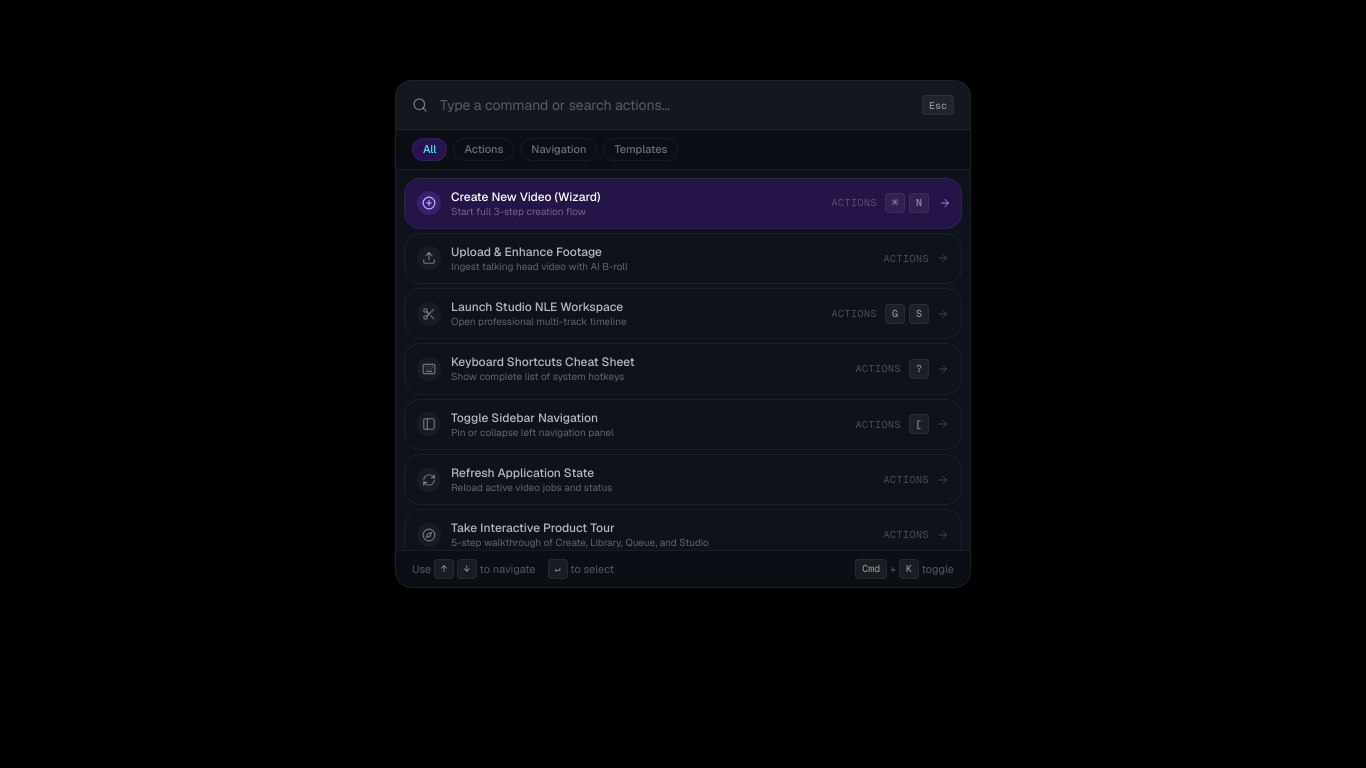
Test: Phase 7: CommandPalette Enhancements › filters commands by category pills (Actions, Navigation, Templates)
// Click Actions tab
Step 1. Click the button "Actions" → (484,149), box [453,138,514,160]
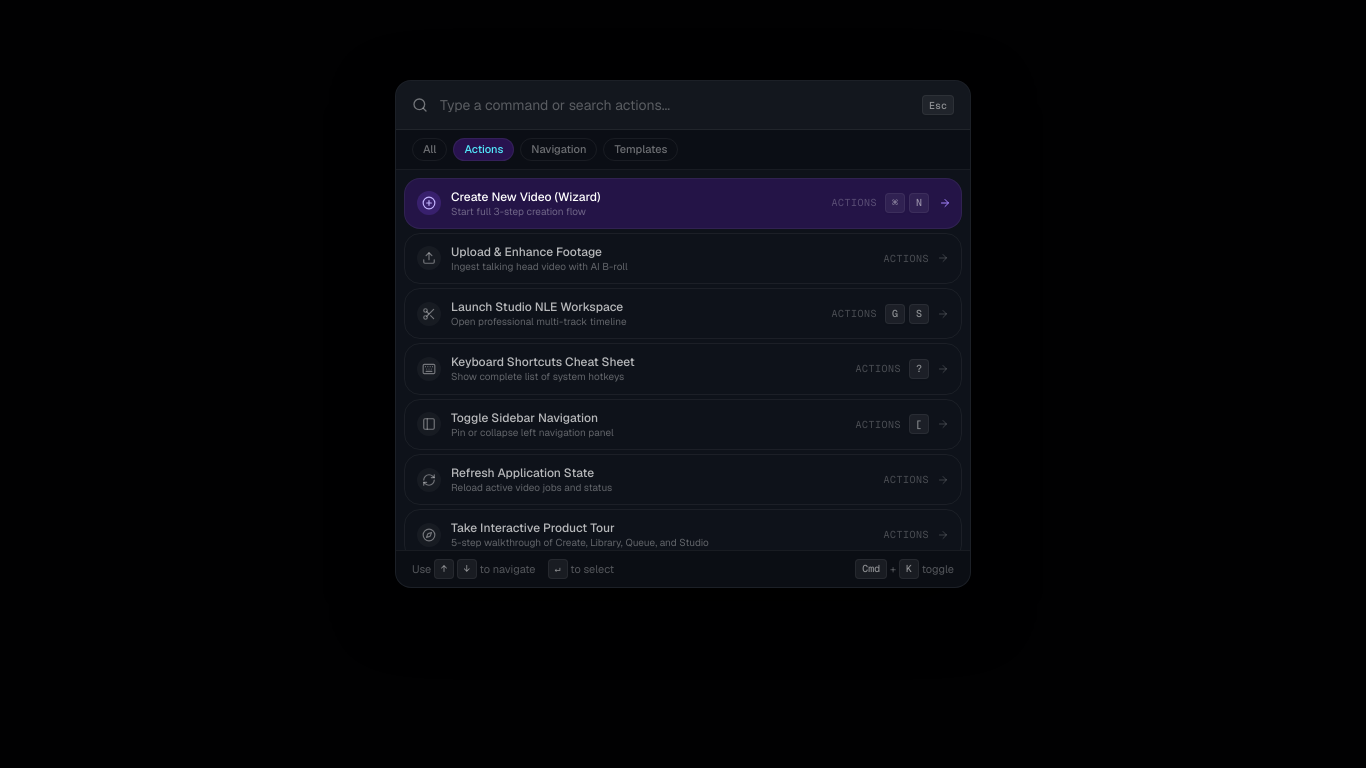
Expected: the text "Create New Video (Wizard)" is shown, [451,188,600,204]
Expected: the text "Go to Command Center (Home)" is not shown
// Click Navigation tab
Step 2. Click the button "Navigation" → (559,149), box [520,138,597,160]
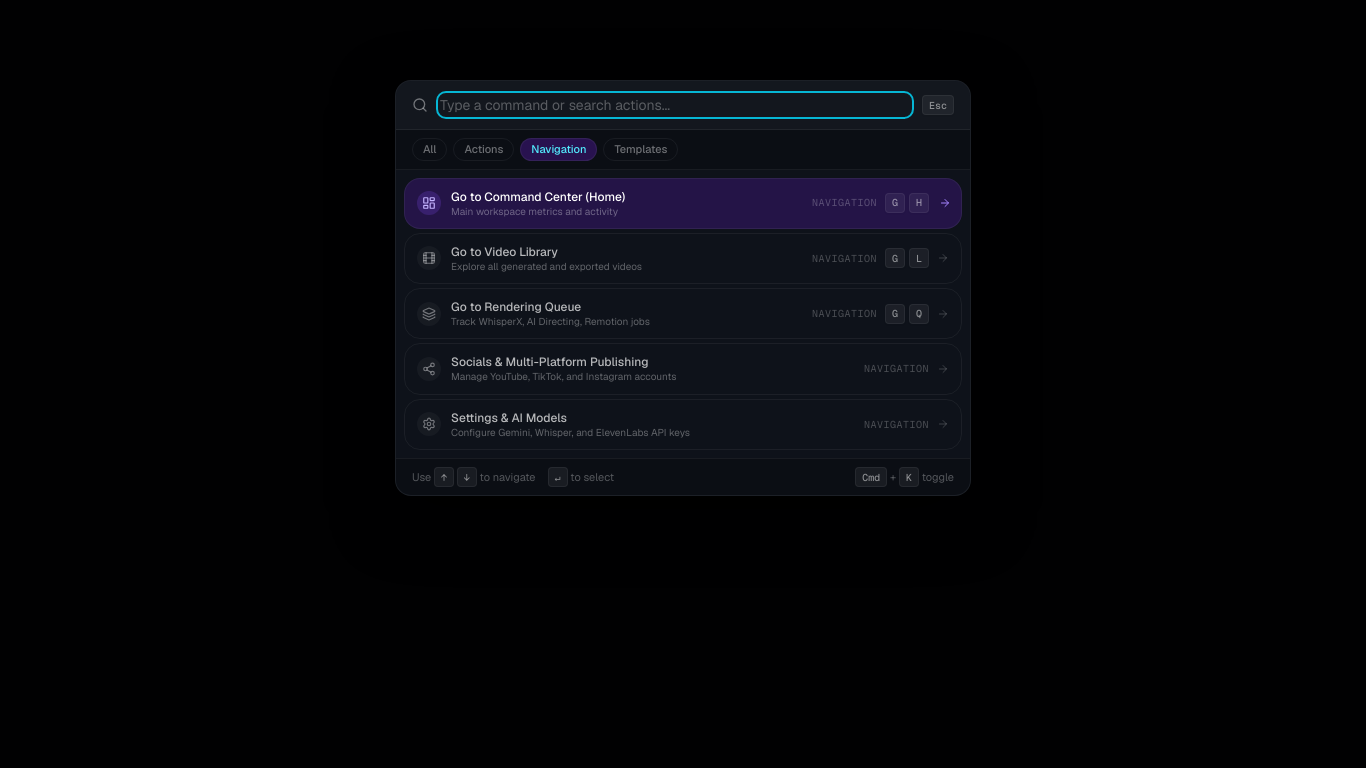
Expected: the text "Go to Command Center (Home)" is shown, [451,188,625,204]
Expected: the option "Create New Video (Wizard)" is gone
